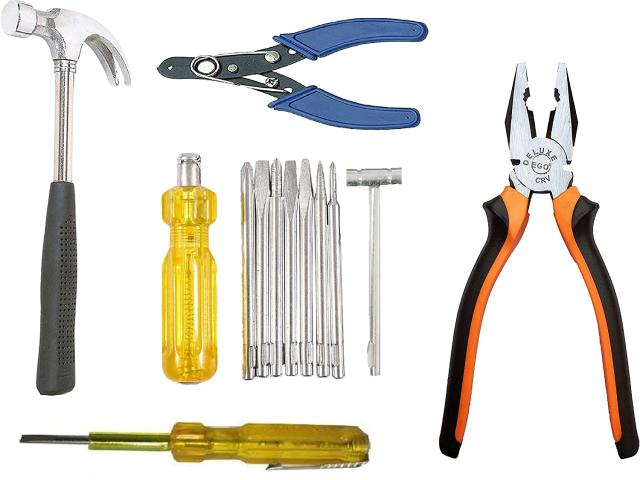Cutting pliers: (158, 18, 428, 129)
Hammer: (1, 0, 131, 395)
Pliers: (440, 63, 639, 458)
Screwdriver: (20, 422, 370, 469), (161, 154, 218, 383)
